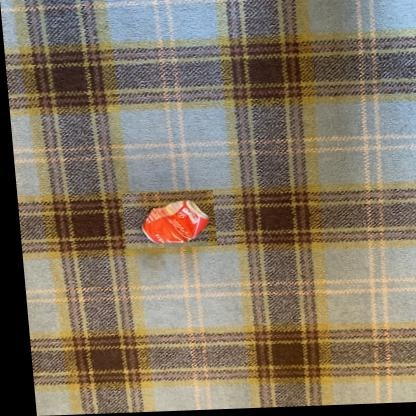trash: (142, 200, 207, 243)
